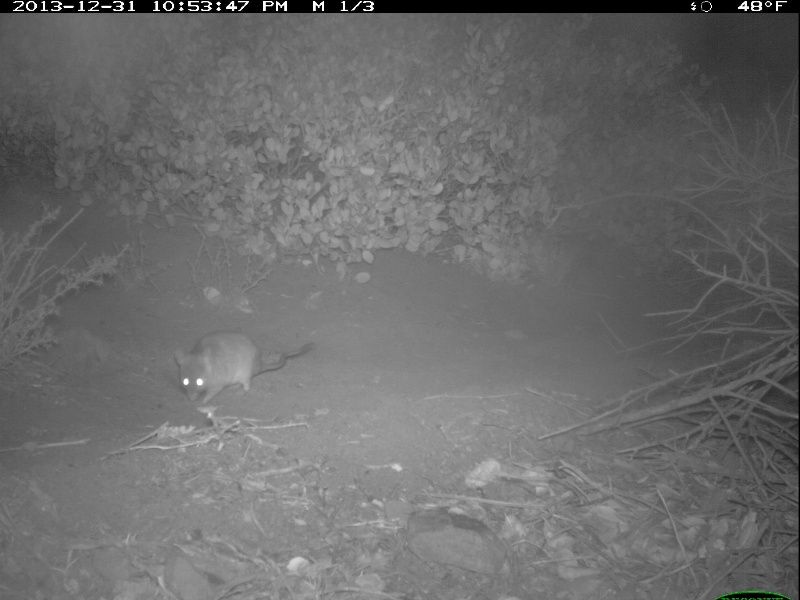raccoon: (176, 327, 319, 406)
